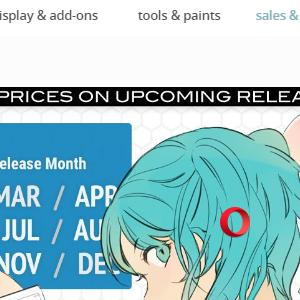opera: (220, 207, 250, 237)
